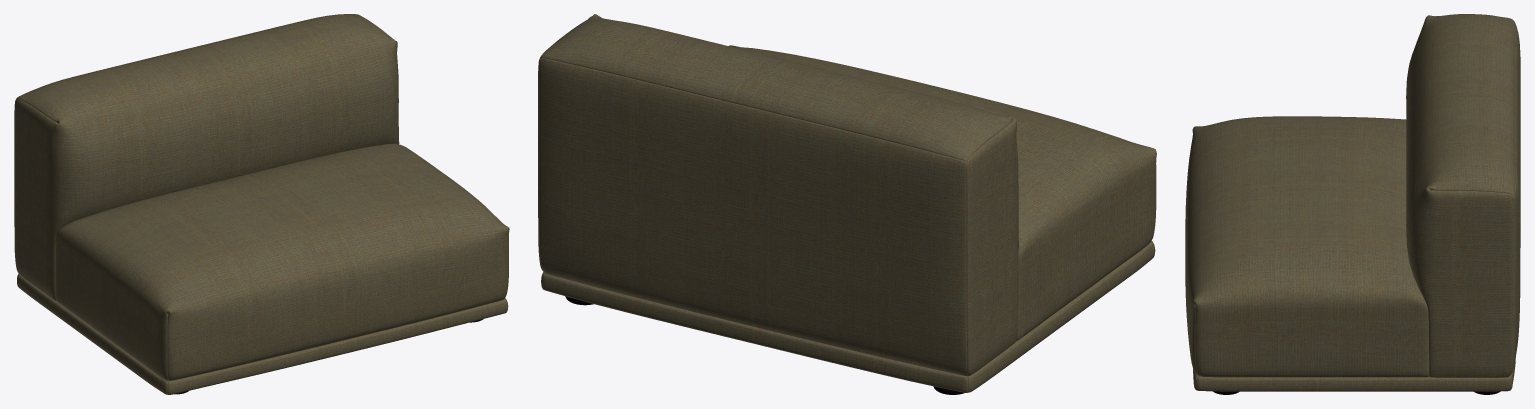
The model's file is REMIX 962.glb.
3 renders of one model, left to right at view 1: azimuth 30°, elevation 25°; view 2: azimuth 150°, elevation 25°; view 3: azimuth 270°, elevation 25°, orthographic. The views are drawn at different scales.
Visible parts, largest first — view 1: Upholstery_ARSD0; view 2: Upholstery_ARSD0; view 3: Upholstery_ARSD0.
Part boxes in pixels (<box>): Upholstery_ARSD0: <box>14,14,509,394</box>; Upholstery_ARSD0: <box>538,14,1156,392</box>; Upholstery_ARSD0: <box>1185,14,1520,391</box>.
Size of the model in its own units: 1.2 by 0.7009 by 0.9536.
2 materials, 2 textured.
